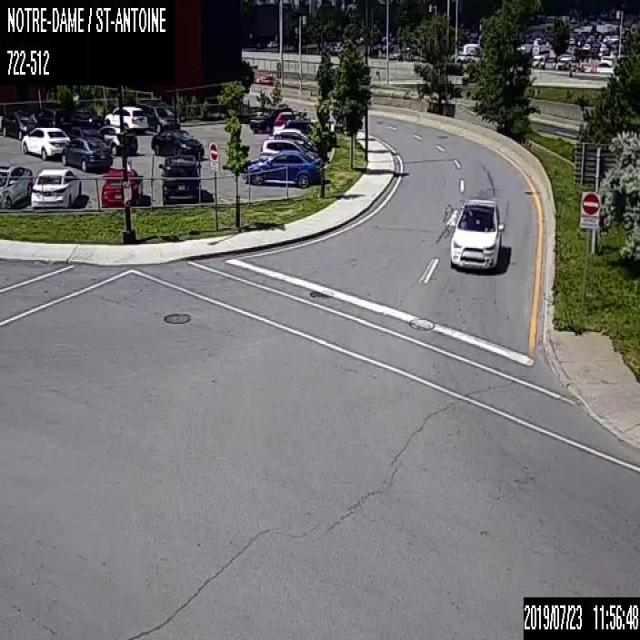vehicle: (449, 197, 504, 271), (246, 149, 322, 186), (158, 154, 202, 205), (259, 137, 320, 172), (30, 167, 81, 207), (273, 119, 336, 149), (61, 136, 111, 171), (151, 127, 205, 159), (20, 126, 70, 159), (101, 168, 143, 206), (0, 162, 33, 207), (103, 104, 148, 134), (1, 107, 43, 139), (272, 127, 319, 153), (98, 124, 137, 154), (250, 105, 292, 131), (143, 104, 180, 132), (37, 105, 73, 132), (68, 124, 102, 140), (73, 106, 92, 125), (274, 110, 294, 124)
